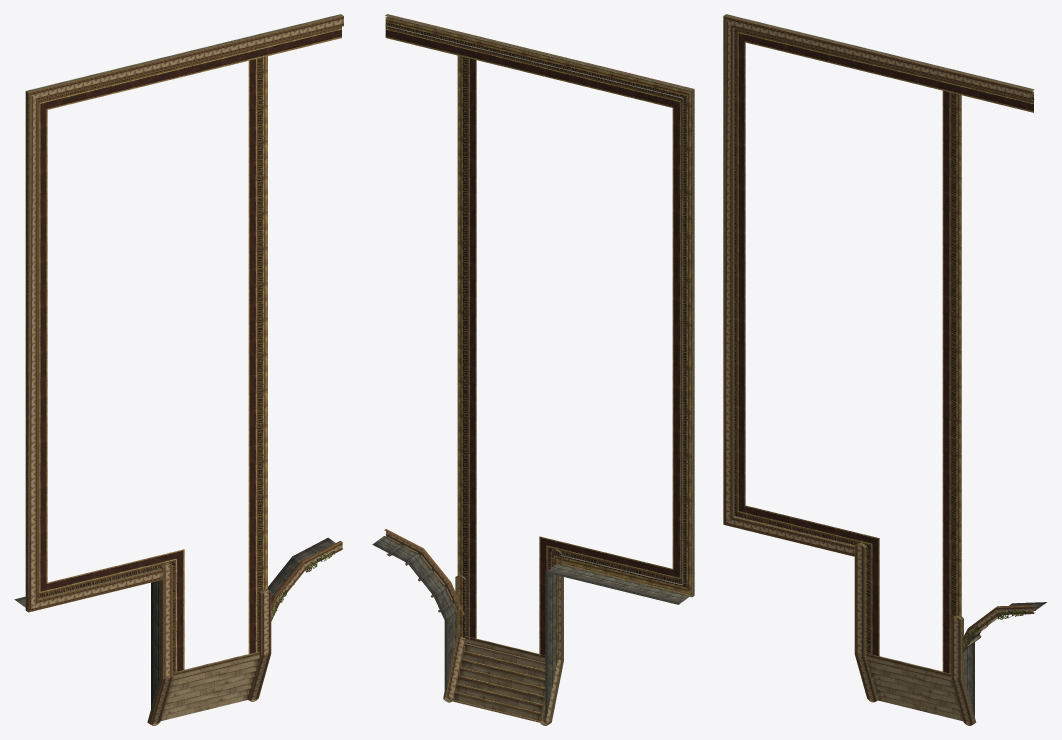
The model's file is zhucheng_yewai_291_huanggong_01_i.obj.
3 views of the same model, side by side, from view 1: azimuth 30°, elevation 25°; view 2: azimuth 150°, elevation 25°; view 3: azimuth 330°, elevation 25° (orthographic). The views are drawn at different scales.
Parts seen in each view (by area): view 1: zhucheng_yewai_291_huanggong_01_i; view 2: zhucheng_yewai_291_huanggong_01_i; view 3: zhucheng_yewai_291_huanggong_01_i.
Part boxes in pixels (bbox=[...]): zhucheng_yewai_291_huanggong_01_i: bbox=[14, 14, 343, 725]; zhucheng_yewai_291_huanggong_01_i: bbox=[372, 14, 694, 725]; zhucheng_yewai_291_huanggong_01_i: bbox=[723, 14, 1046, 725].
Bounding box in the file's own units: 1222 × 2504 × 116.
Materials: 6 (6 with a texture image).
